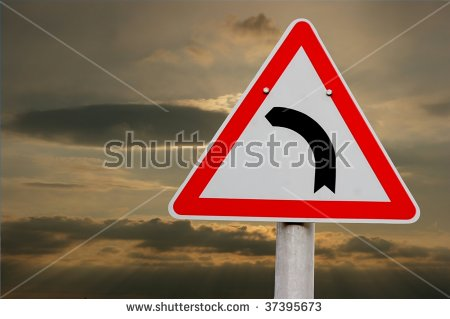Bend_to_left: (169, 18, 421, 227)
